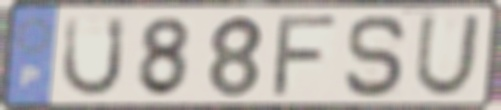8: (206, 13, 265, 100), (136, 15, 194, 99)
F: (268, 13, 343, 100)
S: (342, 13, 410, 100)
U: (411, 13, 484, 99), (58, 14, 128, 100)
